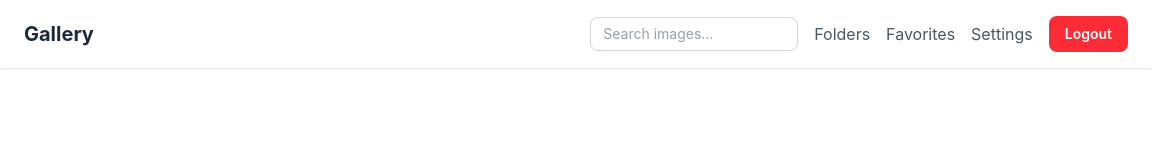
Test case: NavBar › opens Settings dropdown when Settings button is clicked
Click the button with test id "settings-menu-button".
click(1002, 34)  # box [971, 22, 1033, 46]
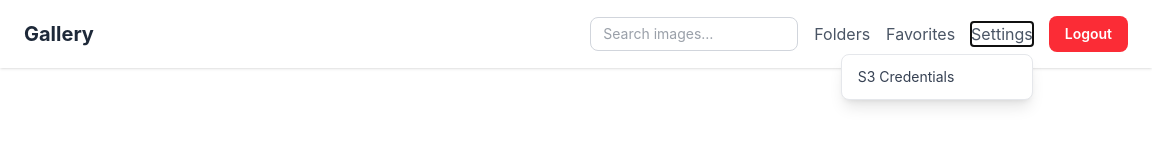
Expected: the element with test id "settings-dropdown" is shown, [841, 54, 1033, 100]
